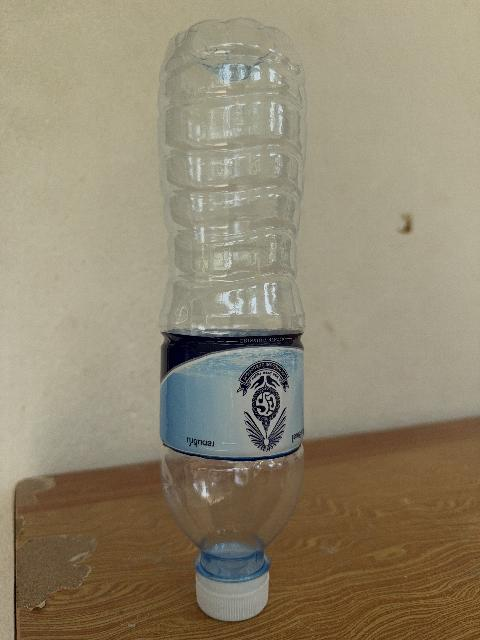bottle: (158, 19, 304, 620)
